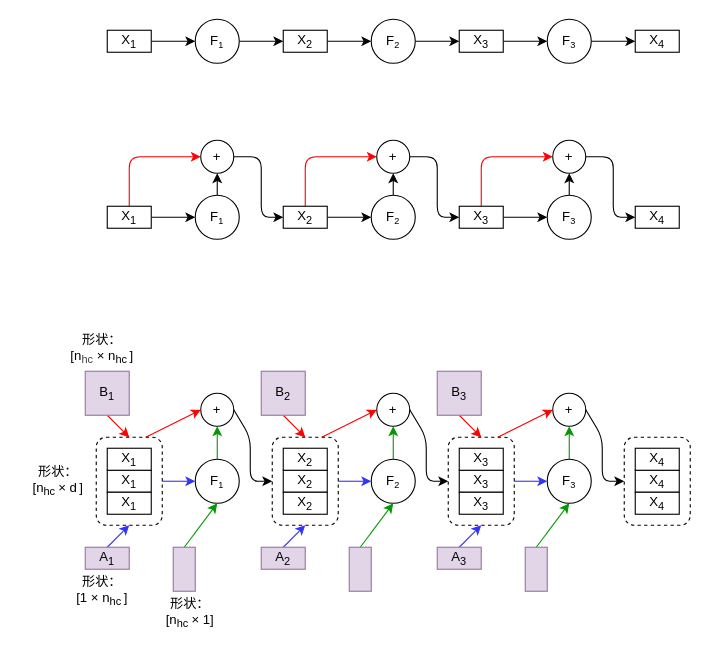
The diagram is 710 pixels wide and 655 high, and some of its shapes have lost their labels. The shapes that lost their labels are listed below. From the top down, each one's centre as x and y in pixels, then its label:
point 183,568: C 1
point 359,568: C 2
point 535,568: C 3
